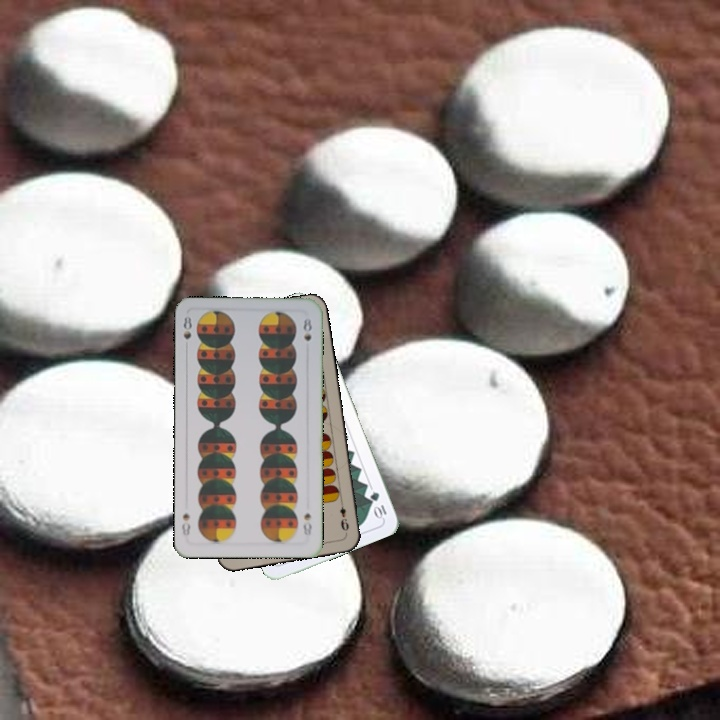E9: (336, 495, 351, 536)
G10: (366, 488, 389, 521)
S8: (179, 312, 194, 353), (299, 509, 315, 538)
